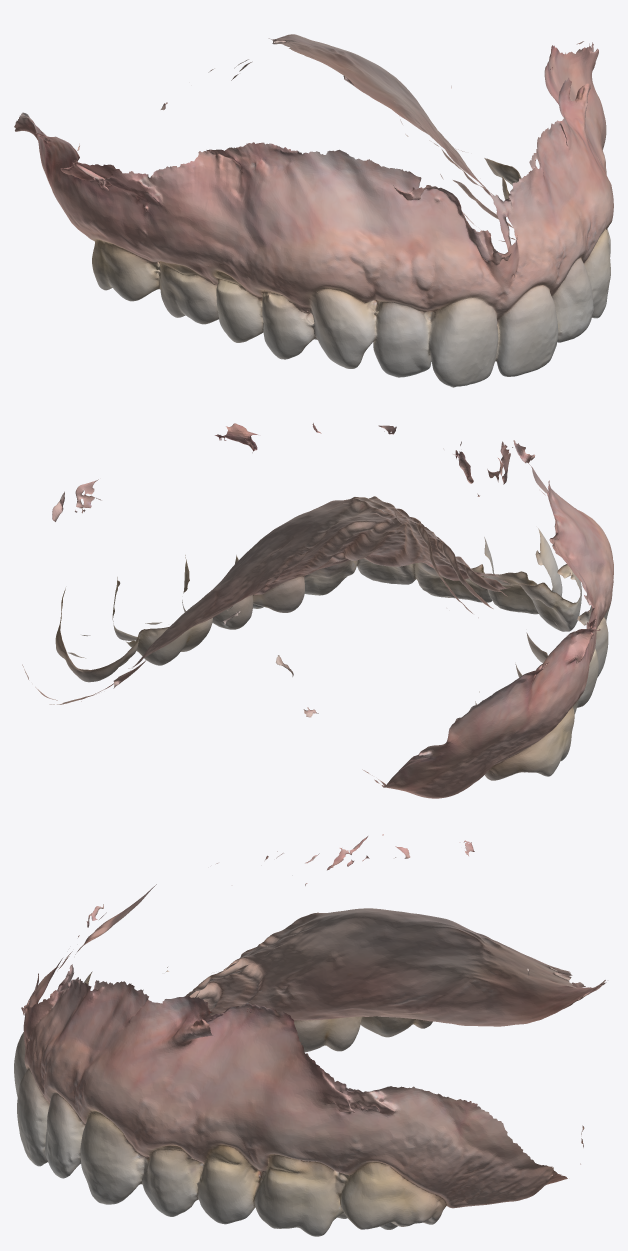
File: oberkiefer.glb
The picture shows the model from 3 angles, top to bottom: view 1: azimuth 30°, elevation 25°; view 2: azimuth 150°, elevation 25°; view 3: azimuth 270°, elevation 25°; orthographic projection. The views are drawn at different scales.
Visible parts, largest first — view 1: oberkiefer; view 2: oberkiefer; view 3: oberkiefer.
Part boxes in pixels (x1,y1,x2,y2): oberkiefer: (14, 34, 613, 387); oberkiefer: (22, 423, 613, 798); oberkiefer: (14, 834, 606, 1236).
Bounding box in the file's own units: 0.0699 × 0.0273 × 0.0657.
